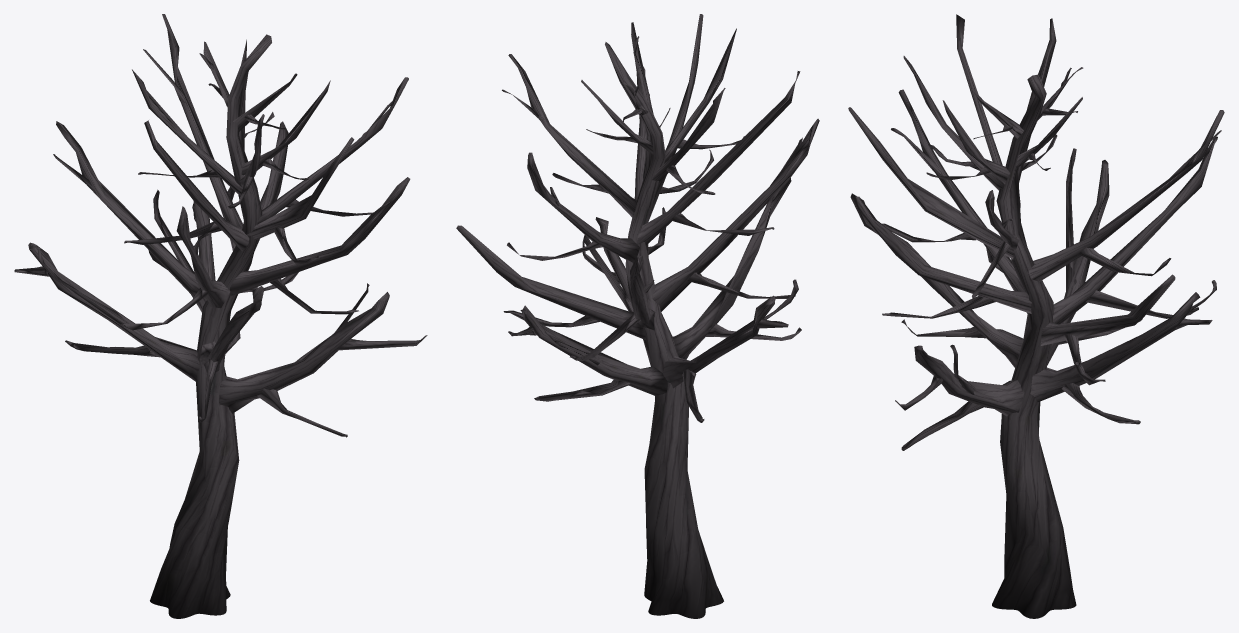
The model's file is deadtree_1_1.glb.
3 renders of one model, left to right at view 1: azimuth 30°, elevation 25°; view 2: azimuth 150°, elevation 25°; view 3: azimuth 270°, elevation 25°, orthographic. The views are drawn at different scales.
Visible parts, largest first — view 1: DeadTree_1; view 2: DeadTree_1; view 3: DeadTree_1.
Part boxes in pixels (left/top/right/bottom): DeadTree_1: left=14, top=14, right=427, bottom=618; DeadTree_1: left=456, top=14, right=819, bottom=618; DeadTree_1: left=848, top=14, right=1224, bottom=618.
Size of the model in its own units: 6.14 by 9.49 by 5.74.
1 material, 1 textured.
